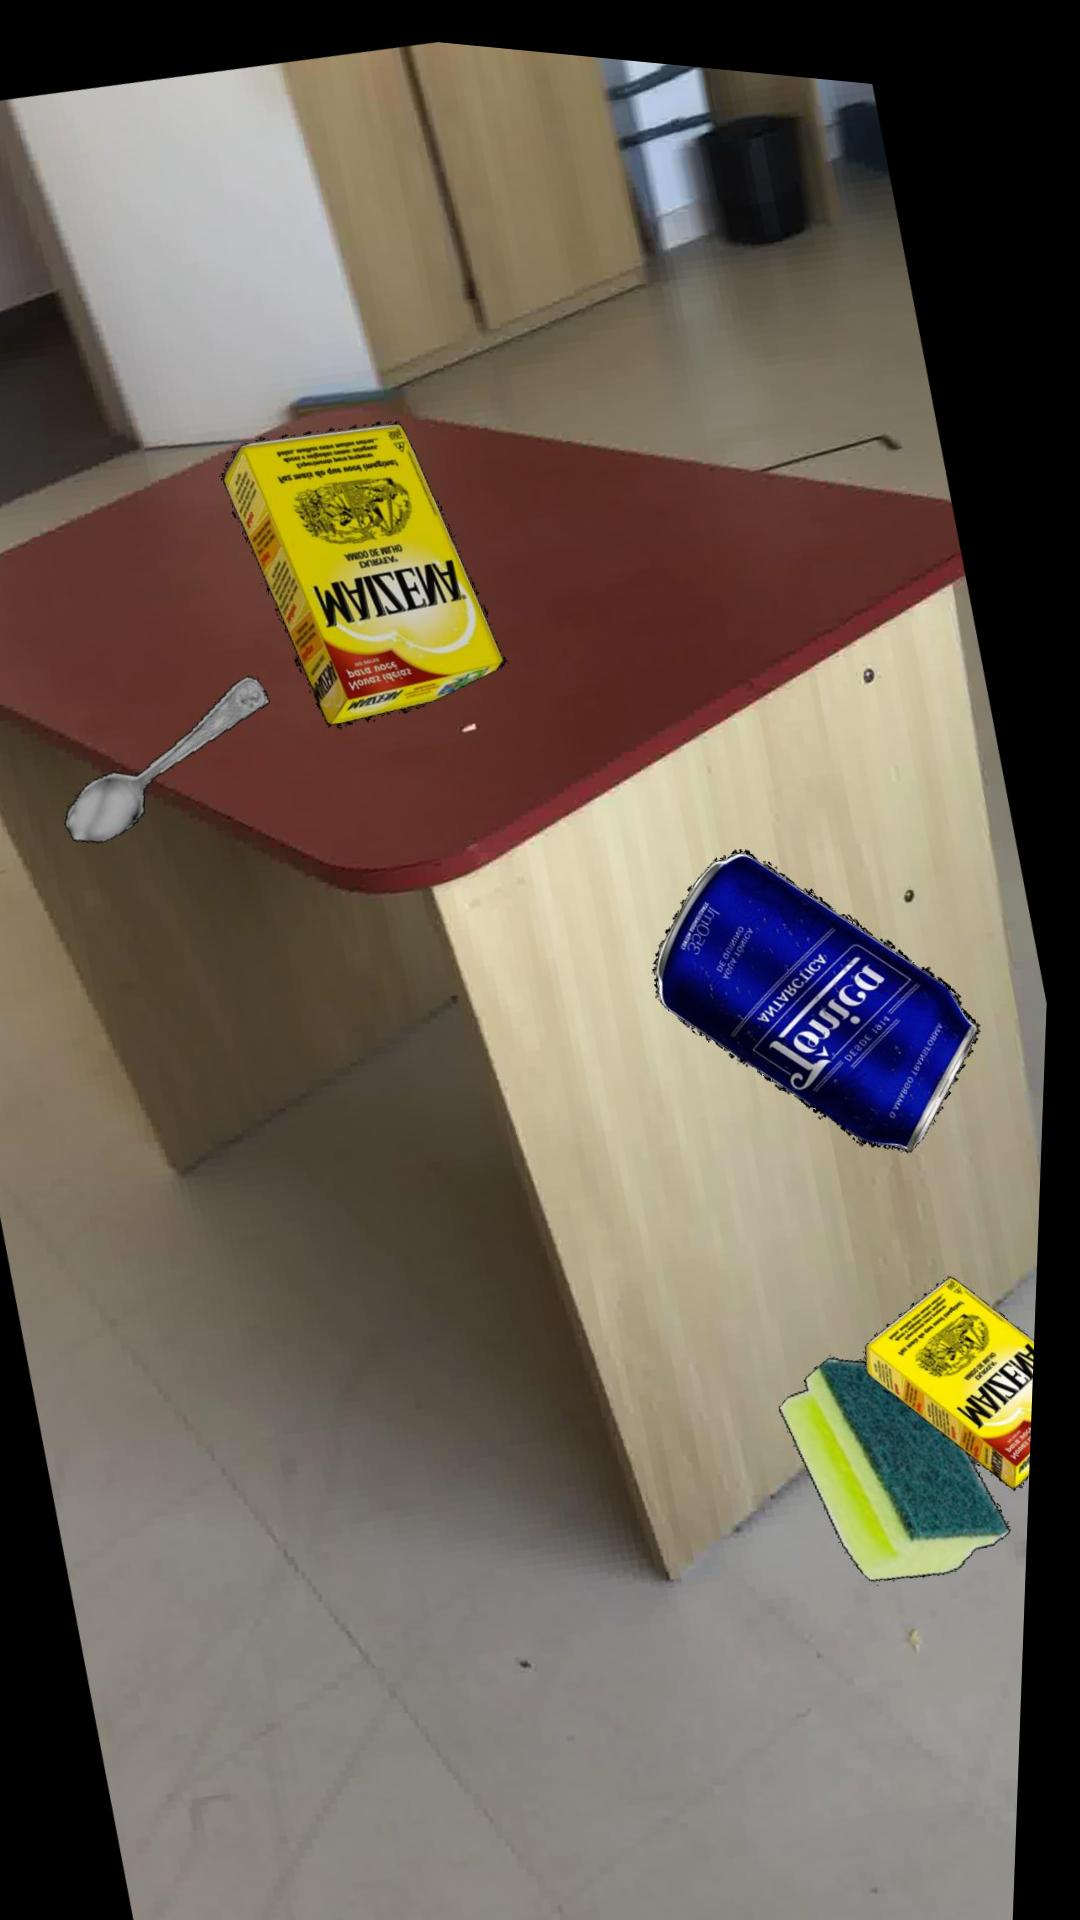sponge: (786, 1337, 1019, 1560)
spoon: (69, 667, 272, 837)
tonic: (657, 831, 985, 1130)
